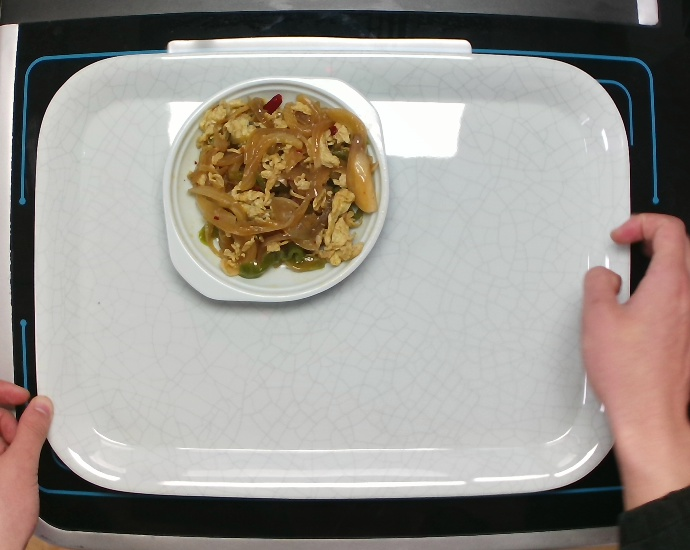JYsf-Shuang_Er_Pan: (160, 57, 397, 315)
